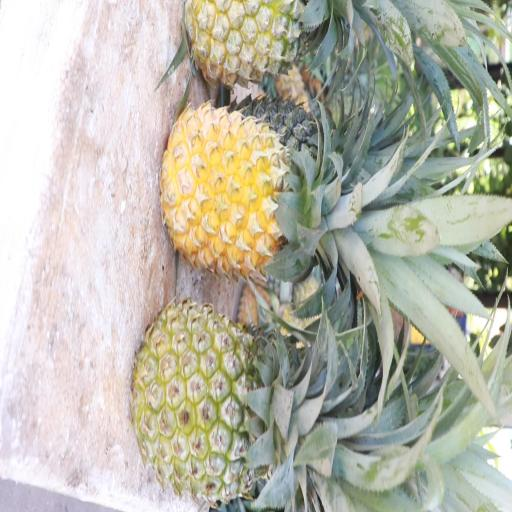------------------------------: (139, 308, 322, 496), (185, 0, 328, 92)
Pineapple - v8 v1: (163, 105, 336, 274)
